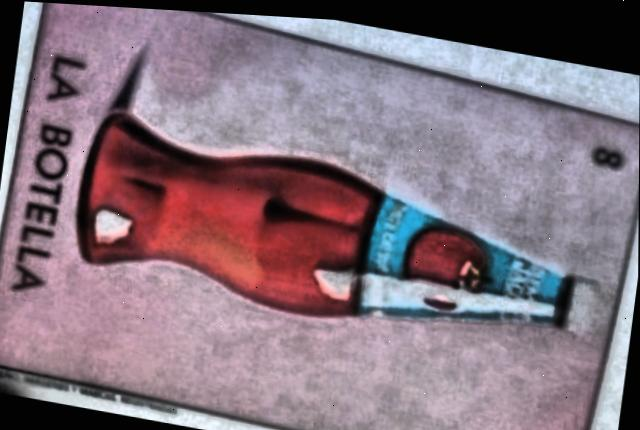La Botella: (0, 2, 639, 430)
